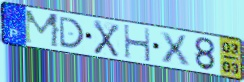8: (193, 36, 216, 72)
D: (58, 15, 86, 50)
H: (122, 24, 153, 64)
M: (23, 8, 61, 49)
X: (159, 31, 192, 67), (92, 19, 121, 59)
